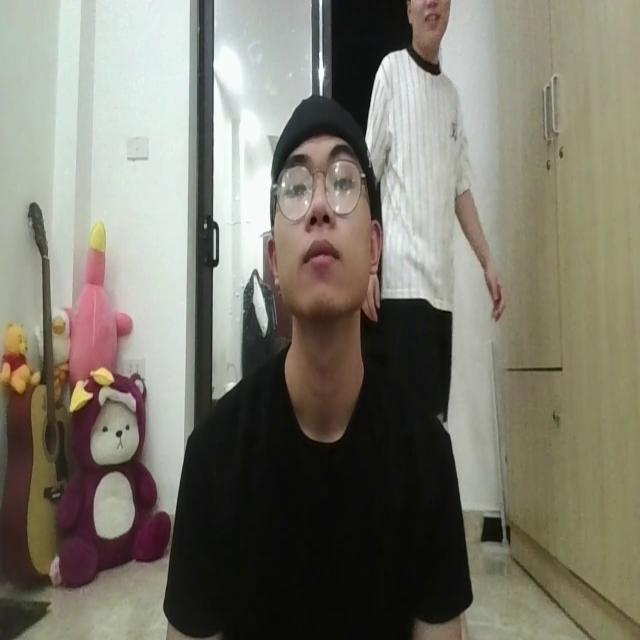extra_person: (363, 1, 510, 375)
student: (180, 90, 463, 640)
